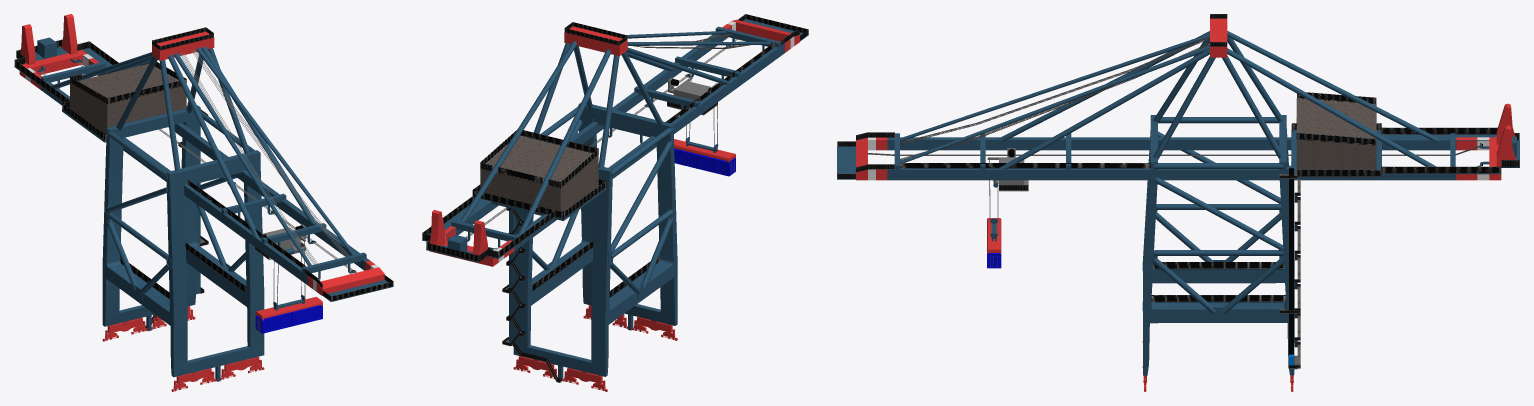
Rendered from SeaCran.fbx.
3 renders of one model, left to right at view 1: azimuth 30°, elevation 25°; view 2: azimuth 150°, elevation 25°; view 3: azimuth 270°, elevation 25°, orthographic. The views are drawn at different scales.
Parts seen in each view (by area): view 1: Main, Main2, Cabin, Main2.001, Wheels, Cube.001, Cabin.002, Plane.002, Plane.003, Plane.005, Plane.006, Cran (+11 smaller); view 2: Main, Cabin, Main2, Main2.001, Wheels, Plane.002, Plane.003, Plane.001, Cube.001, Plane.005, Cabin.002, Plane.006 (+9 smaller); view 3: Main, Main2, Cabin, Plane.003, Plane.006, Plane.007, Cube.004, Plane.002, Cabin.002, Cube.005, Plane.009, Plane.001 (+5 smaller).
Part boxes in pixels (left/top/right/bottom): Main: left=51, top=46, right=355, bottom=381; Main2: left=19, top=50, right=384, bottom=295; Cabin: left=62, top=63, right=186, bottom=142; Main2.001: left=184, top=166, right=366, bottom=279; Wheels: left=102, top=306, right=264, bottom=391; Cube.001: left=255, top=305, right=322, bottom=333; Cabin.002: left=20, top=14, right=77, bottom=64; Plane.002: left=70, top=62, right=186, bottom=104; Plane.003: left=14, top=39, right=118, bottom=102; Plane.005: left=152, top=31, right=214, bottom=60; Plane.006: left=120, top=242, right=246, bottom=298; Cran: left=255, top=295, right=322, bottom=320; Main: left=461, top=31, right=771, bottom=380; Cabin: left=480, top=135, right=606, bottom=220; Main2: left=429, top=19, right=799, bottom=266; Main2.001: left=593, top=26, right=781, bottom=143; Wheels: left=513, top=305, right=677, bottom=391; Plane.002: left=480, top=130, right=598, bottom=188; Plane.003: left=422, top=192, right=554, bottom=262; Plane.001: left=472, top=179, right=606, bottom=218; Cube.001: left=674, top=148, right=735, bottom=176; Plane.005: left=564, top=26, right=627, bottom=55; Cabin.002: left=430, top=210, right=487, bottom=255; Plane.006: left=531, top=240, right=659, bottom=297; Main: left=900, top=31, right=1439, bottom=375; Main2: left=856, top=137, right=1501, bottom=180; Cabin: left=1291, top=98, right=1381, bottom=179; Plane.003: left=1381, top=127, right=1519, bottom=173; Plane.006: left=1151, top=262, right=1285, bottom=302; Plane.007: left=900, top=163, right=1150, bottom=168; Cube.004: left=1288, top=165, right=1294, bottom=364; Plane.002: left=1296, top=92, right=1376, bottom=145; Cabin.002: left=1496, top=103, right=1515, bottom=166; Cube.005: left=1294, top=179, right=1300, bottom=347; Plane.009: left=837, top=132, right=894, bottom=178; Plane.001: left=1291, top=123, right=1381, bottom=176.
Bounding box in the file's own units: 2018 × 6140 × 11176.
